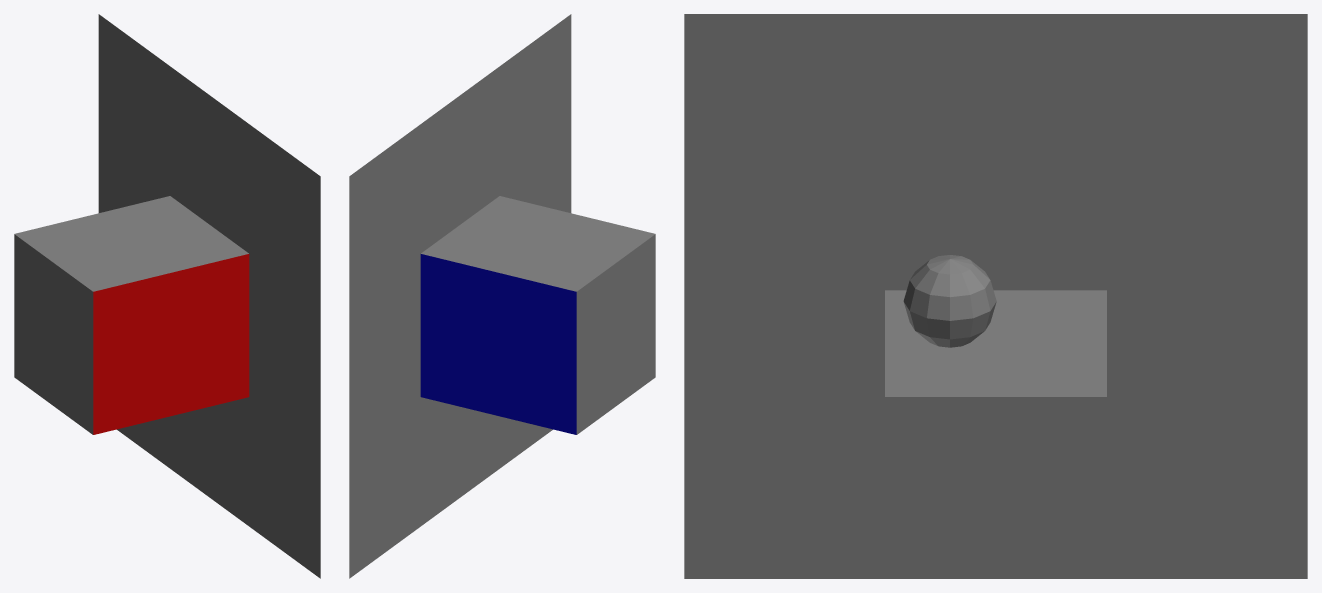
File: showBox2.obj
3 renders of one model, left to right at view 1: azimuth 30°, elevation 25°; view 2: azimuth 150°, elevation 25°; view 3: azimuth 270°, elevation 25°, orthographic. The views are drawn at different scales.
Parts seen in each view (by area): view 1: Plane; view 2: Plane; view 3: Plane.
Part boxes in pixels (left/top/right/bottom): Plane: left=14, top=14, right=320, bottom=578; Plane: left=349, top=14, right=655, bottom=578; Plane: left=684, top=14, right=1307, bottom=578.
Bounding box in the file's own units: 2.28 × 5.62 × 5.62.
